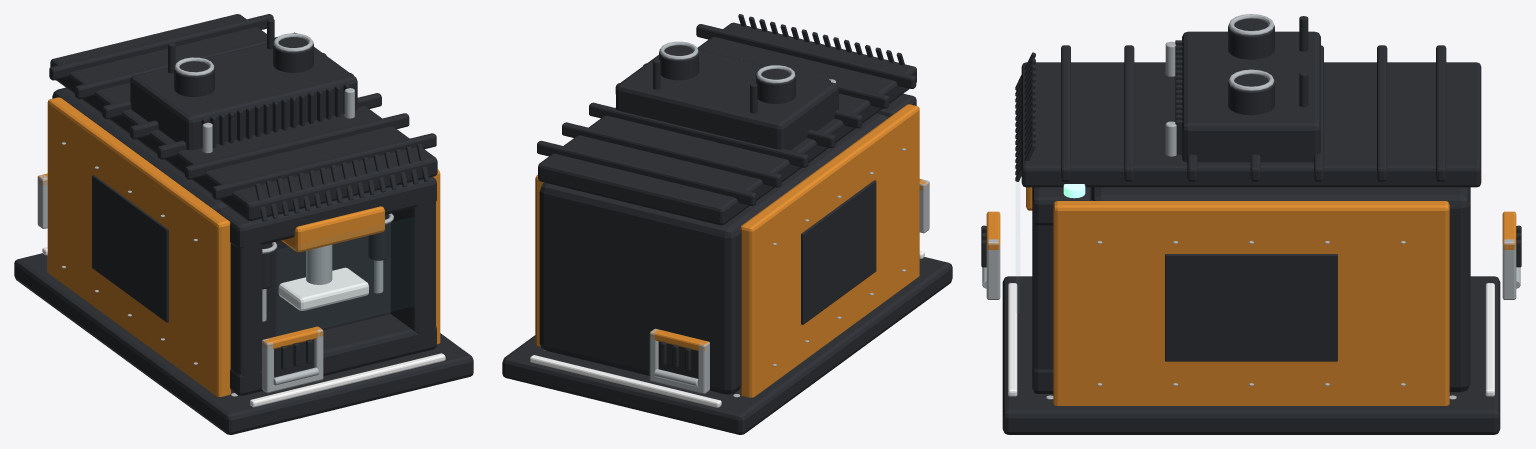
File: constructor.glb
3 views of the same model, side by side, from view 1: azimuth 30°, elevation 25°; view 2: azimuth 150°, elevation 25°; view 3: azimuth 270°, elevation 25° (orthographic). The views are drawn at different scales.
Visible parts, largest first — view 1: Main_Body, Press_Mesh, Piston_Mesh; view 2: Main_Body; view 3: Main_Body.
Part boxes in pixels (x1,y1,x2,y2): Main_Body: (14,14,473,434); Press_Mesh: (278,206,384,310); Piston_Mesh: (262,213,393,321); Main_Body: (502,14,952,434); Main_Body: (981,14,1521,434).
Bounding box in the file's own units: 3.9 × 4.22 × 6.41.
